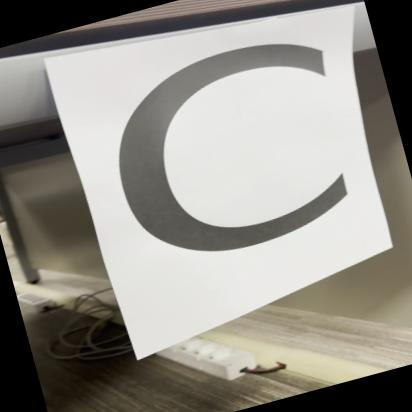seat: (59, 0, 405, 326)
